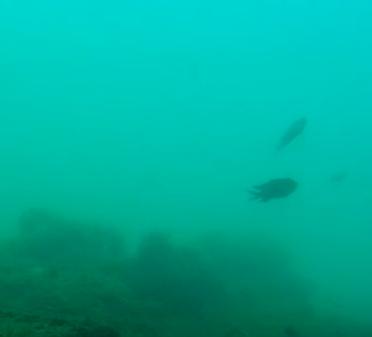smallfish: (239, 167, 303, 211)
